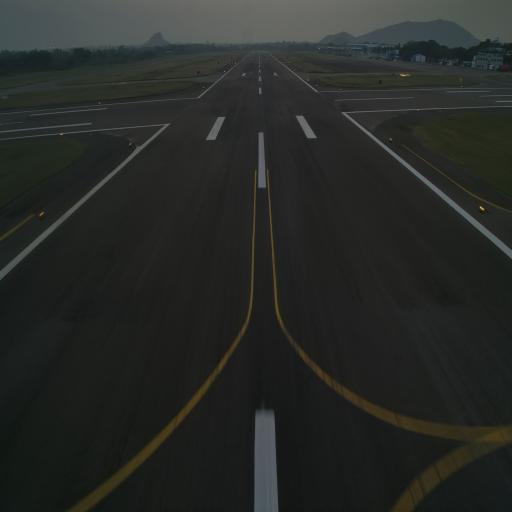on: (477, 199, 487, 219), (37, 208, 46, 222), (388, 134, 394, 146), (127, 139, 134, 148)
